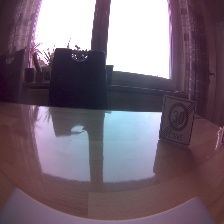dreisiger_zone_ende: (158, 94, 195, 147)
